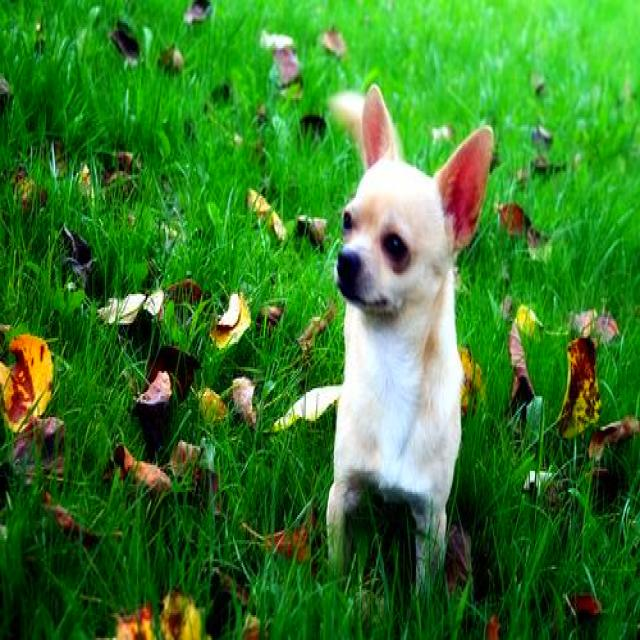chihuahua: (322, 81, 498, 604)
